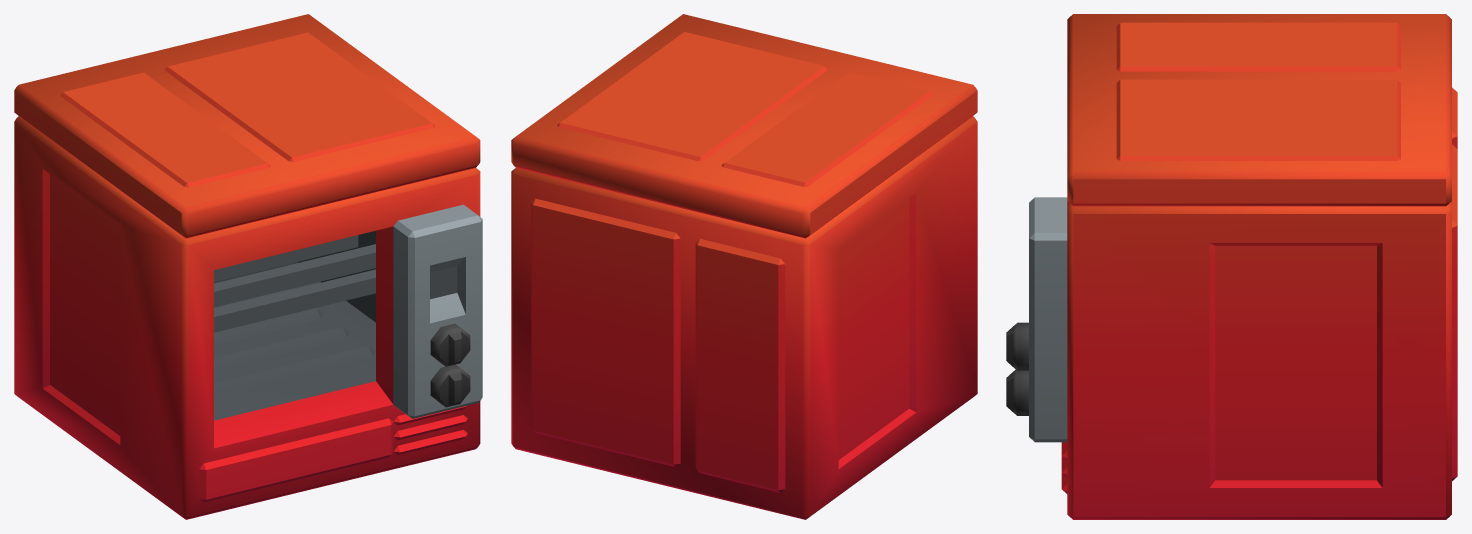
The model's file is oven.glb.
The picture shows the model from 3 angles, left to right: view 1: azimuth 30°, elevation 25°; view 2: azimuth 150°, elevation 25°; view 3: azimuth 270°, elevation 25°; orthographic projection. The views are drawn at different scales.
Visible parts, largest first — view 1: oven_Cube.068; view 2: oven_Cube.068; view 3: oven_Cube.068.
Part boxes in pixels (box(x1,y1,x2,y2)): oven_Cube.068: box(14, 14, 482, 519); oven_Cube.068: box(511, 14, 977, 519); oven_Cube.068: box(1006, 14, 1457, 519).
Size of the model in its own units: 2 by 2.02 by 2.35.
Materials: 1 (1 with a texture image).
